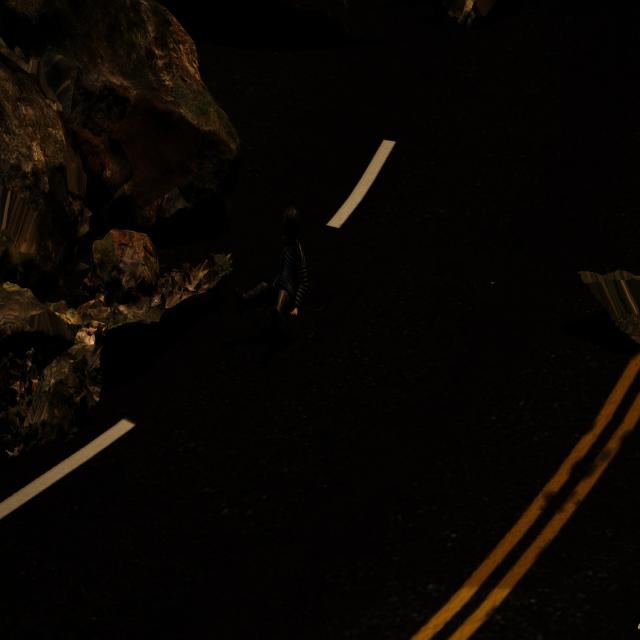Human: (234, 197, 308, 330)
